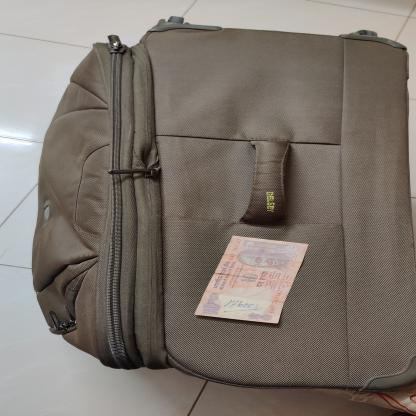Old10Front: (192, 236, 311, 324)
